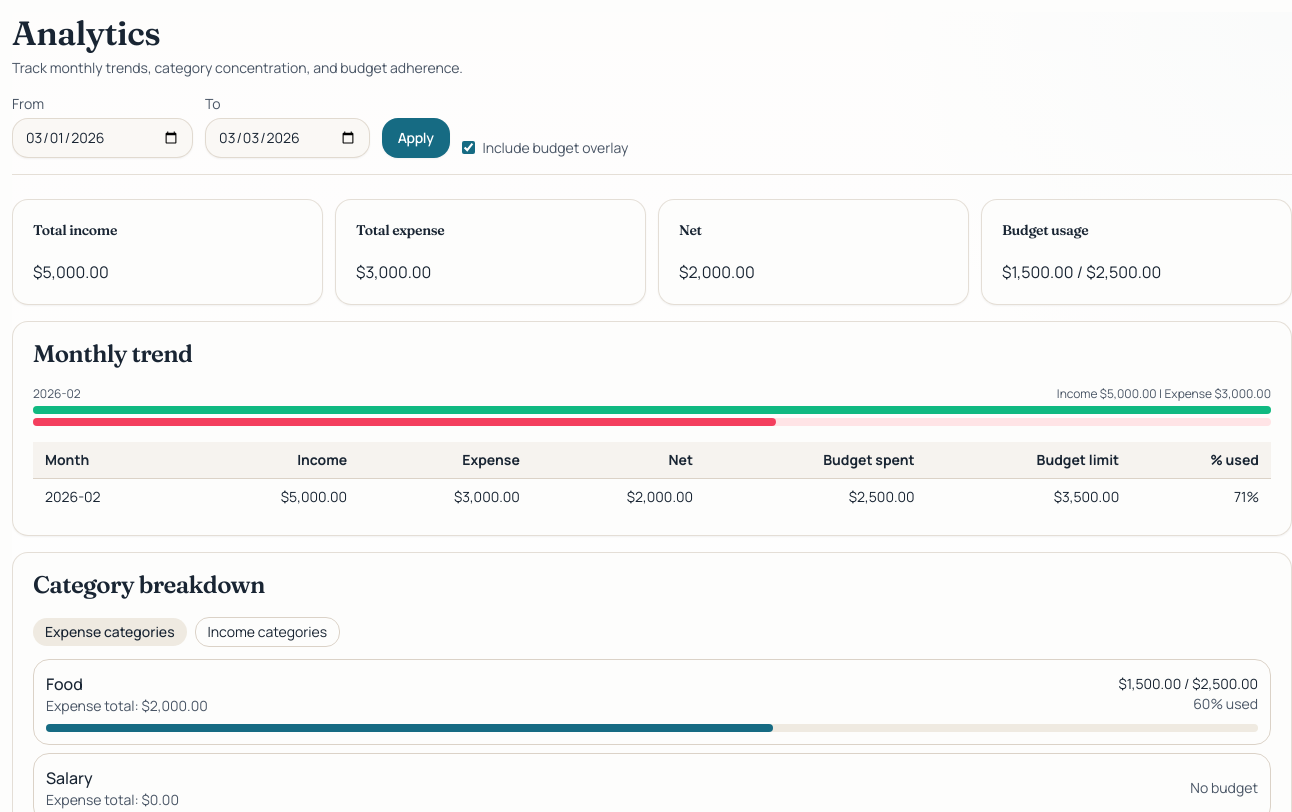
Test: AnalyticsPage › shows inline validation for invalid local date range on apply
The width and height of the screenshot is (1292, 812).
Type "2026-03-31" into the date field named "From date".
click(103, 138); type("2026-03-31")  # box [12,118,193,158]
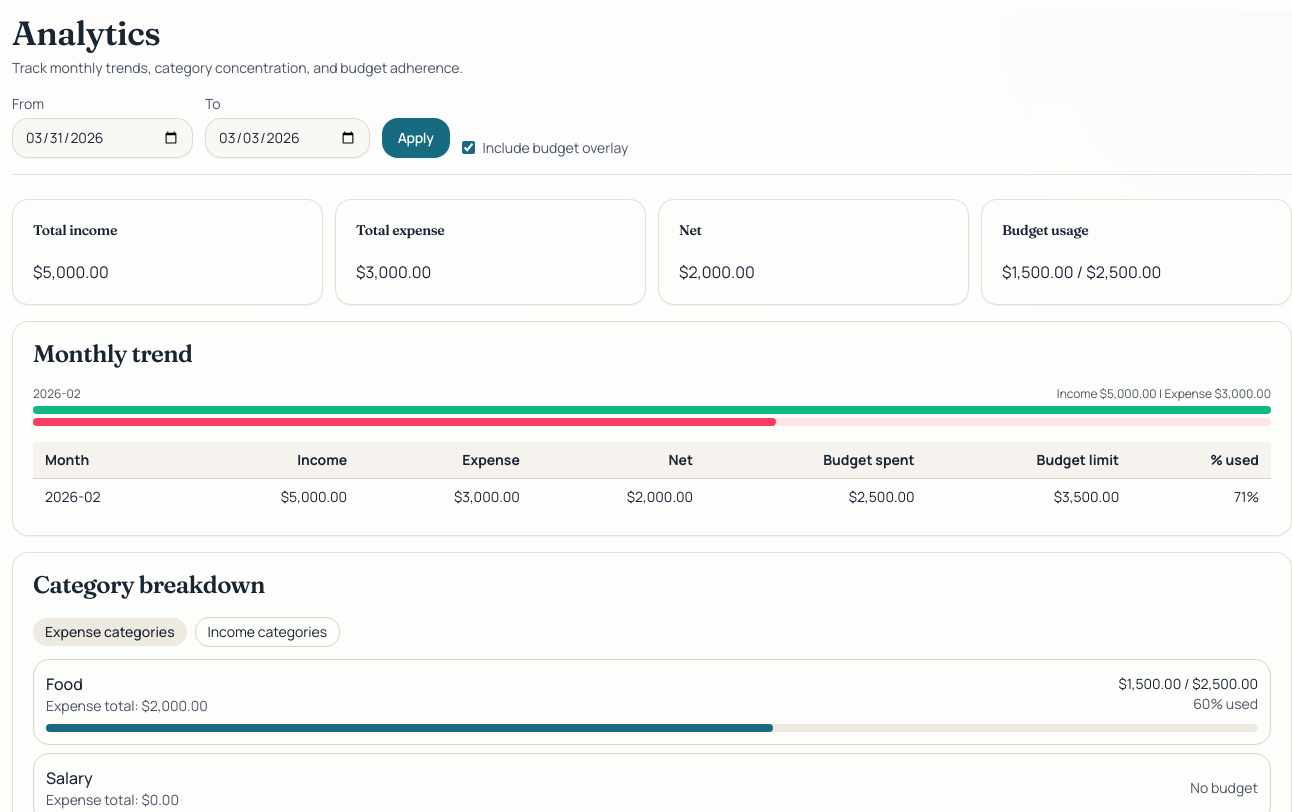
Type "2026-03-01" into the date field named "To date".
click(287, 138); type("2026-03-01")  # box [205,118,370,158]
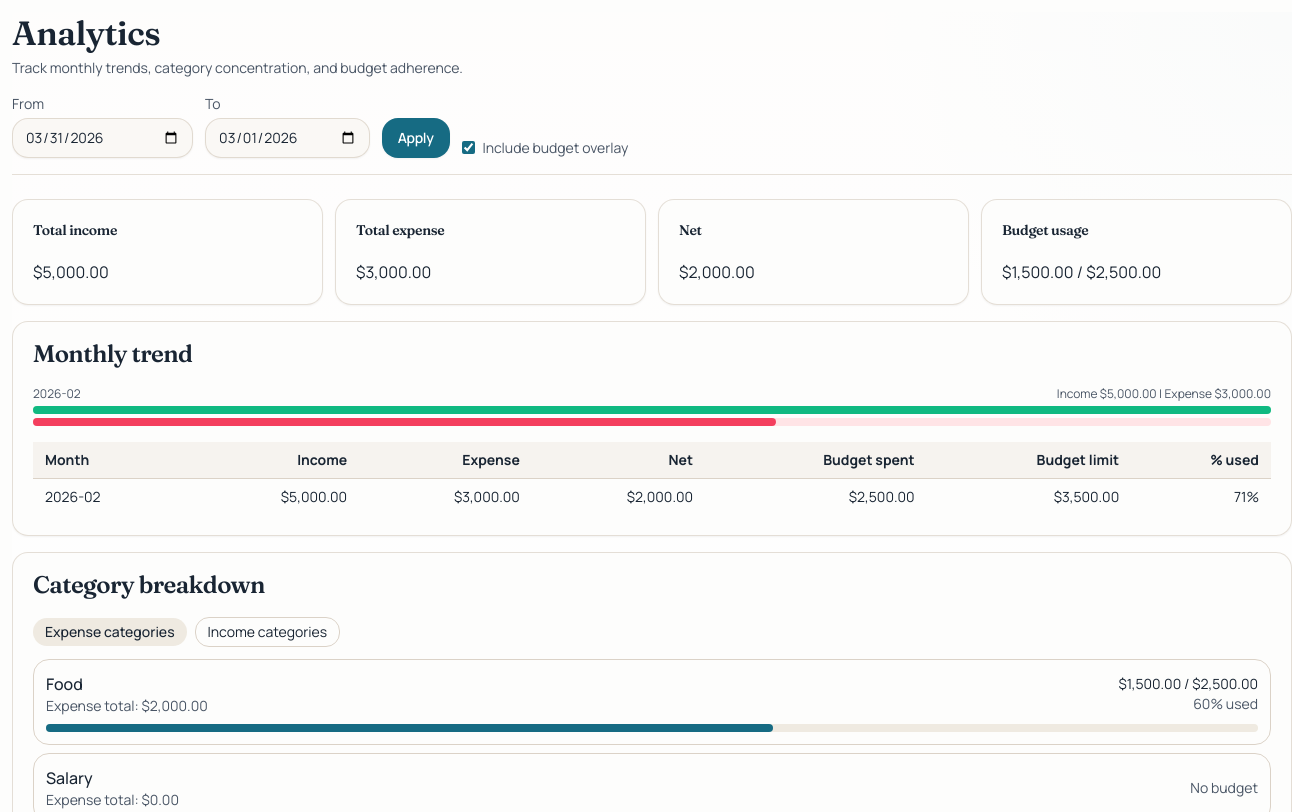
Click the button "Apply".
click(416, 138)  # box [382,118,450,158]
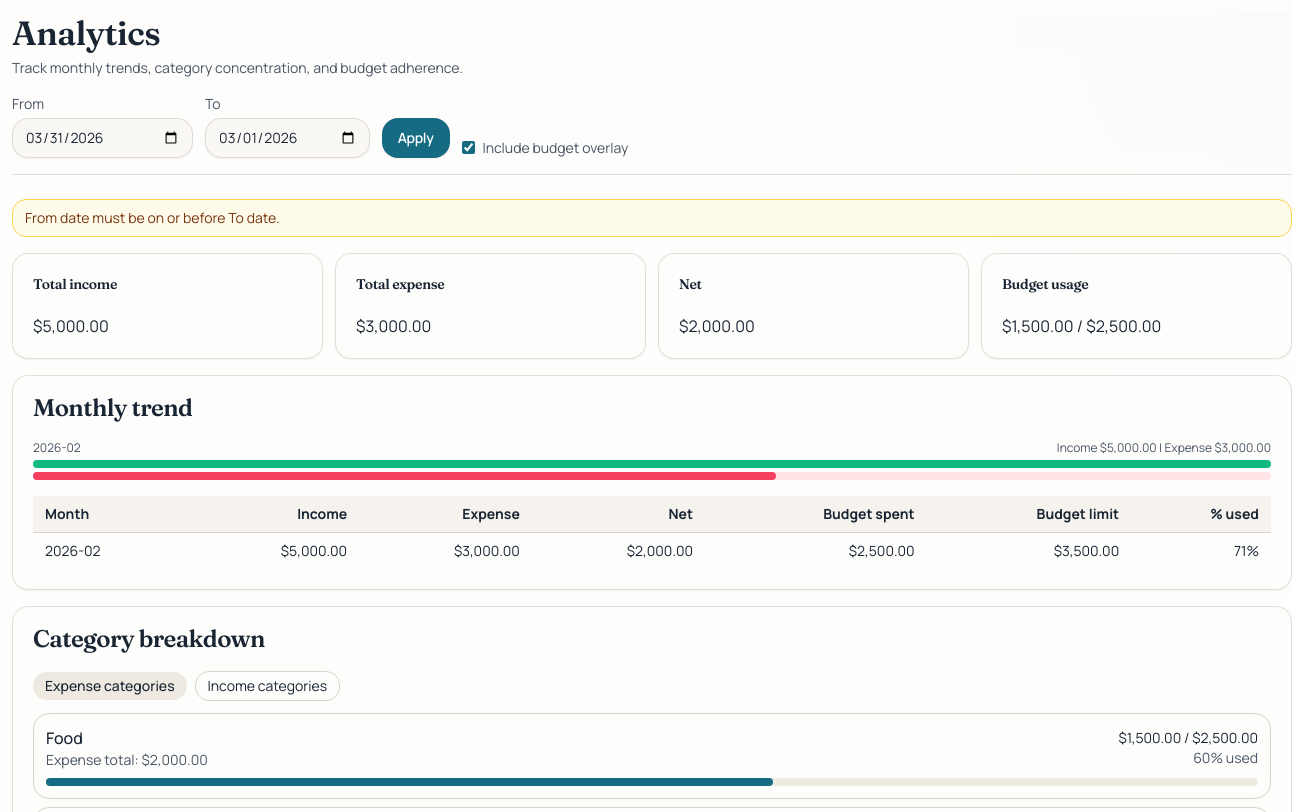
Check: the text "From date must be on or before To date." is shown, box [12,199,1291,237]
